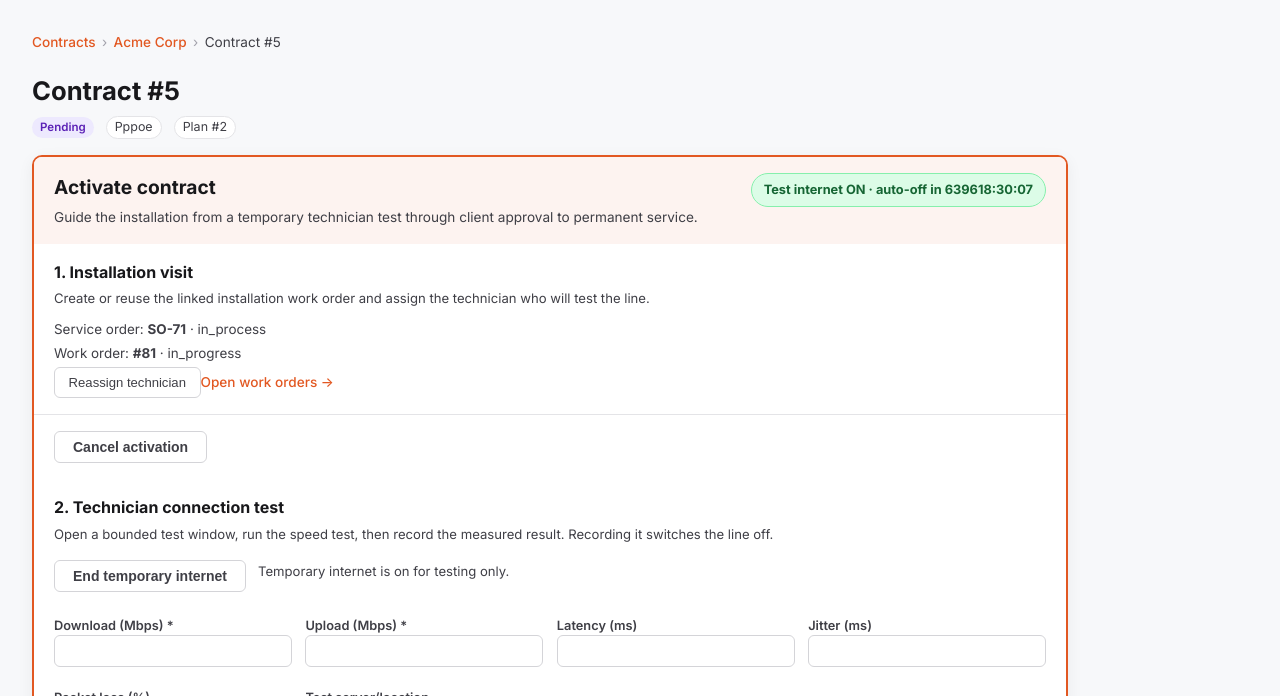
ContractDetail — guided activation › surfaces a live-session disconnect warning returned by test completion
This screenshot has width=1280, height=696.
In the number field labelled "Download (Mbps)": (173, 651) top-left (54, 635), bottom-right (292, 667), type "98.5"
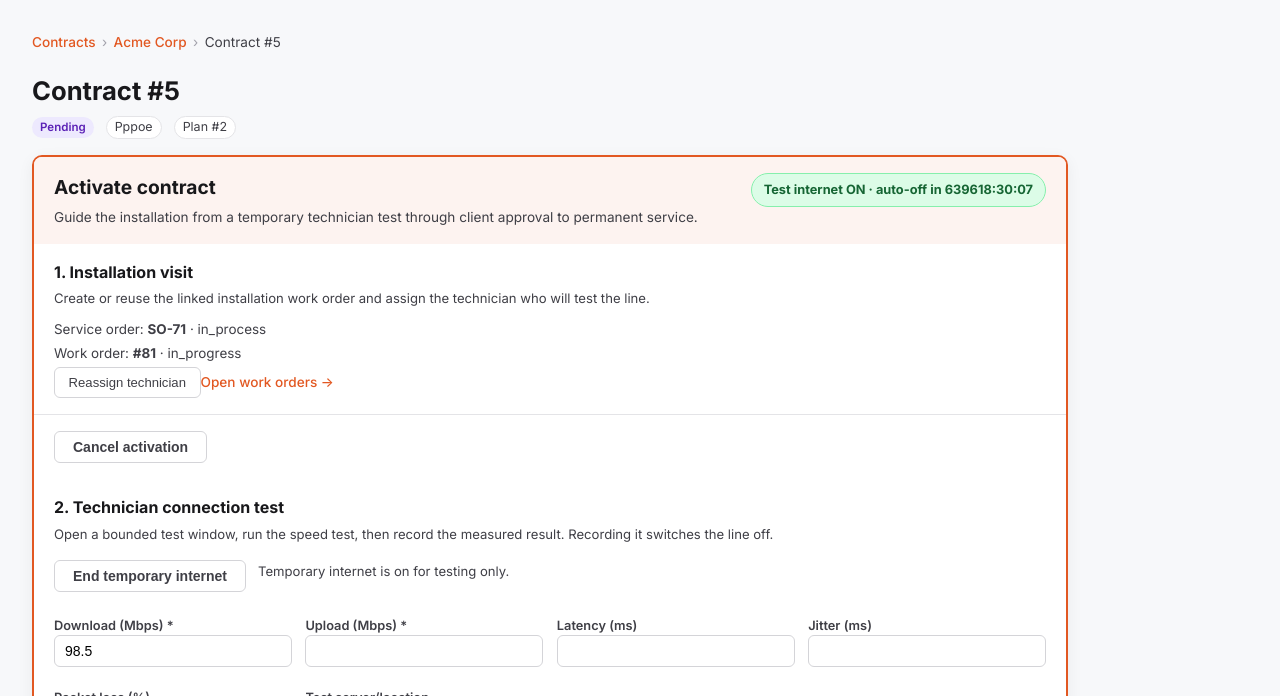
In the number field labelled "Upload (Mbps)": (424, 651) top-left (305, 635), bottom-right (543, 667), type "47.2"
(page scrolled)
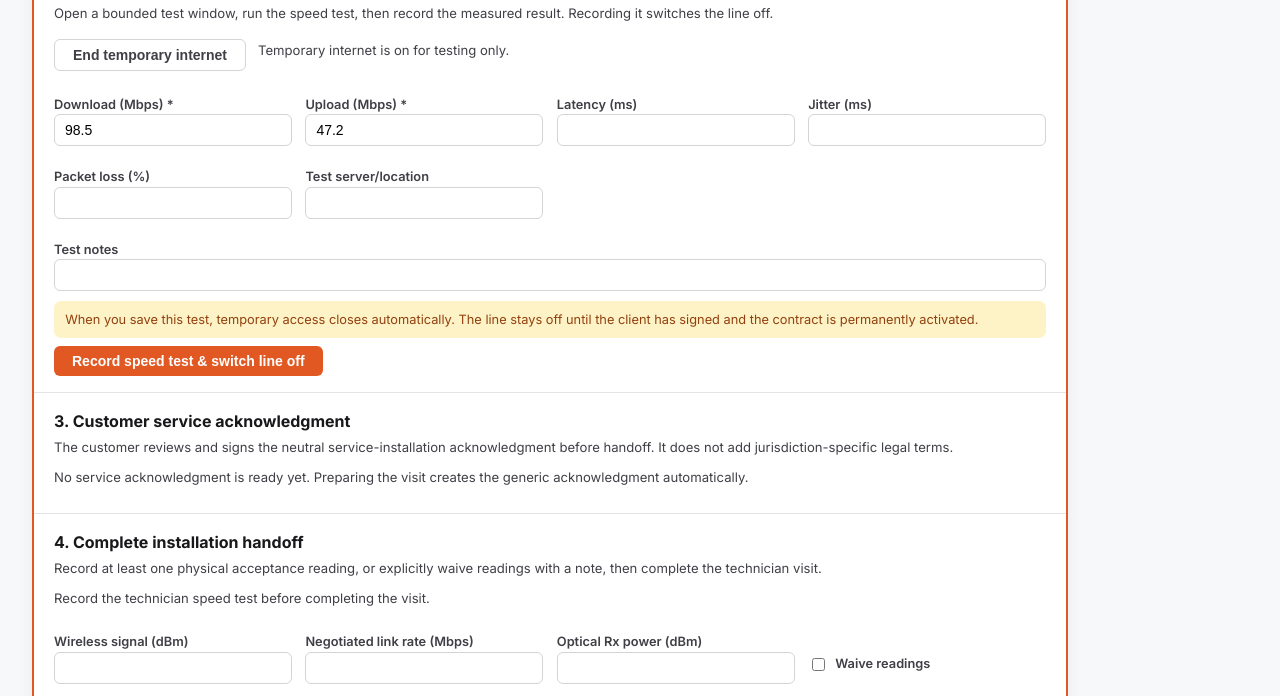
Click the button "Record speed test & switch line off": (188, 361) top-left (54, 346), bottom-right (323, 376)
(page scrolled)
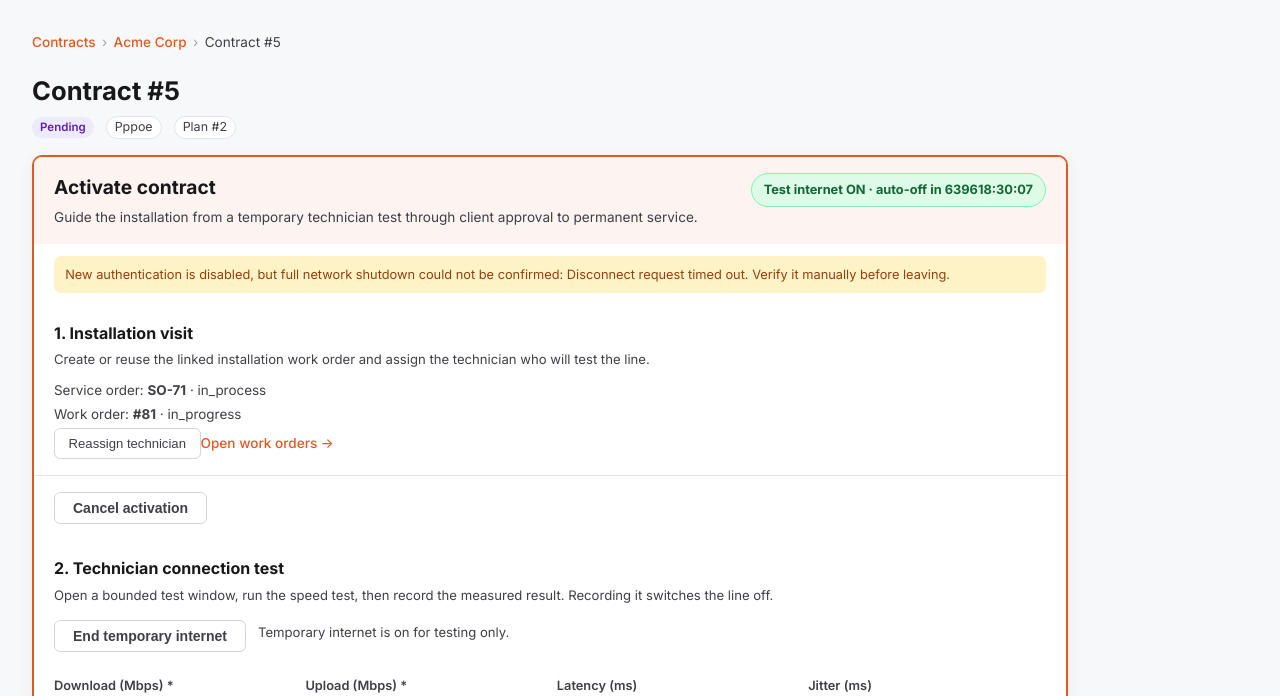
Expected: the text "Disconnect request timed out" is shown, top-left (65, 267), bottom-right (950, 282)
